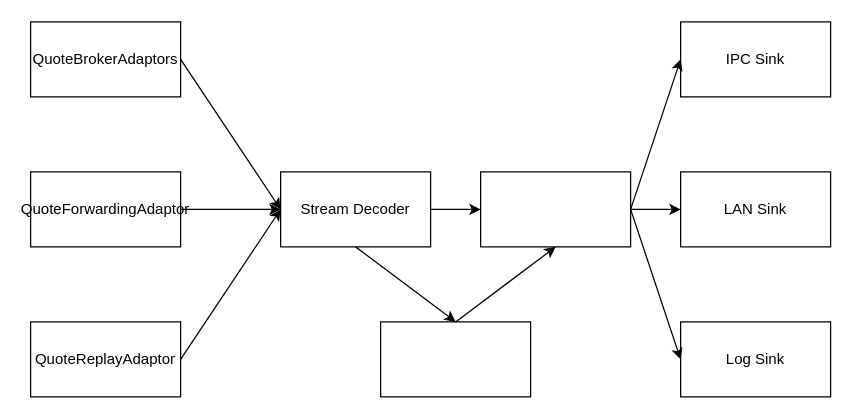
Image size: 853x419. Some labels were removed from this diagram. The shapes that lost their labels are listed below. From the top down, each one's centre as x and y in pixels, then its label:
At (555,209): "Dispatcher".
At (455,359): "ML Factor Generator".
